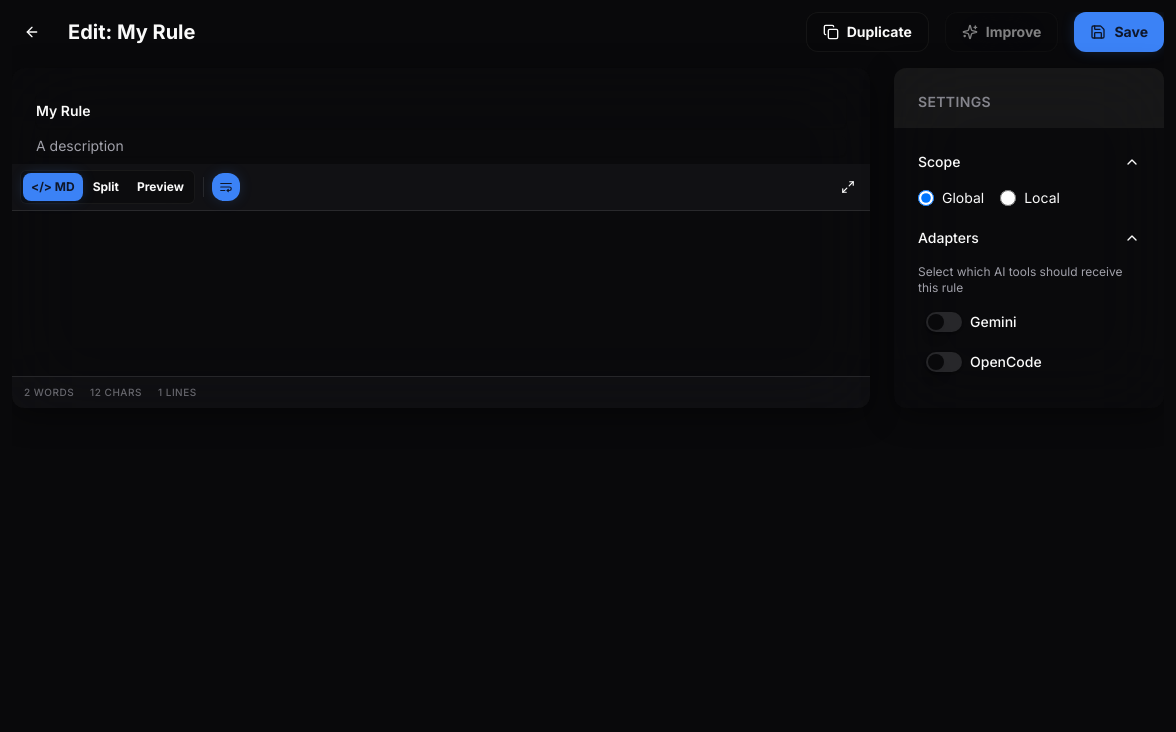
Scenario: RuleEditor › shows validation toast when saving without adapters
# Disable the only adapter (gemini is not in the list here)
Click the button "Save". click: (1119, 32)
box: [1074,12,1164,52]
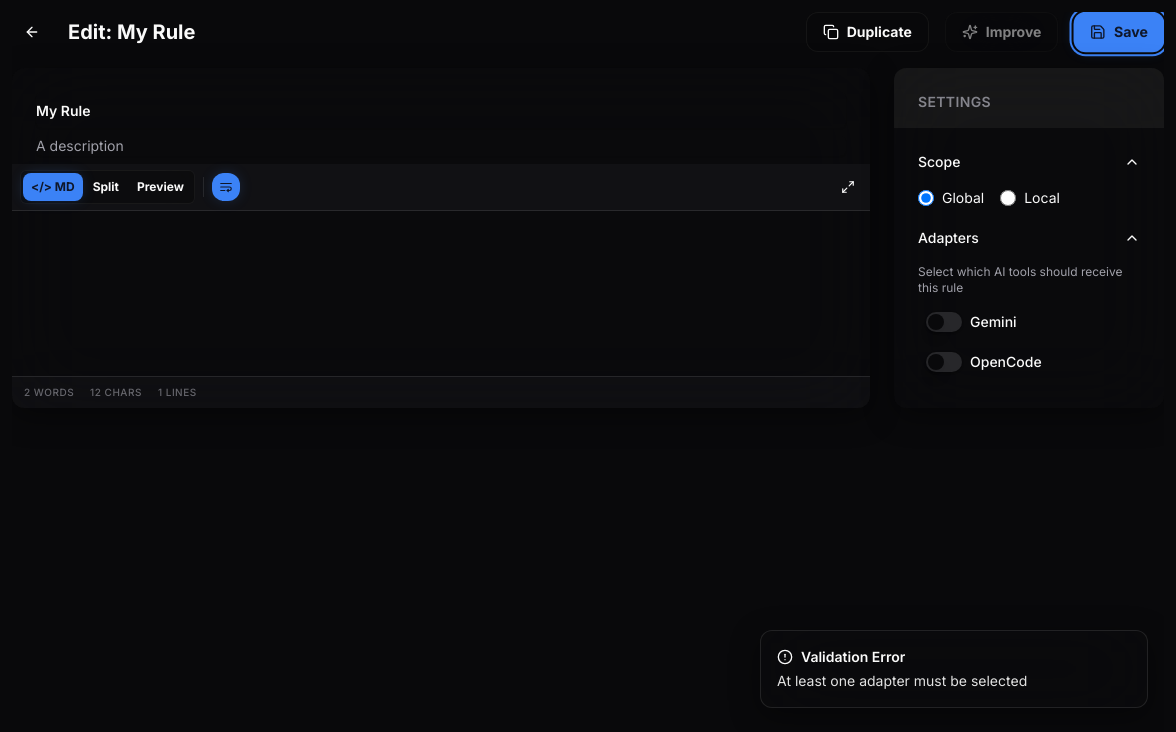
Check: the text "At least one adapter must be selected" is shown, box [777,672,1027,689]
